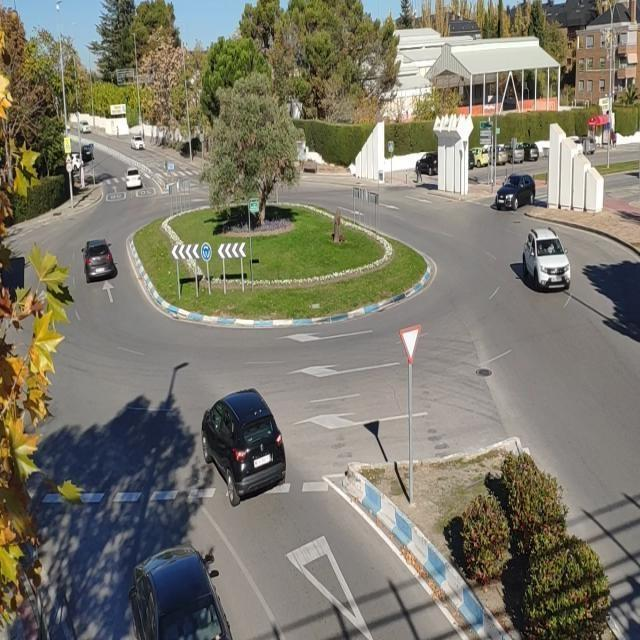Car: (201, 390, 288, 505), (129, 545, 233, 640), (522, 227, 572, 290), (79, 237, 115, 280), (495, 173, 536, 210), (124, 166, 142, 192), (130, 135, 147, 151)
